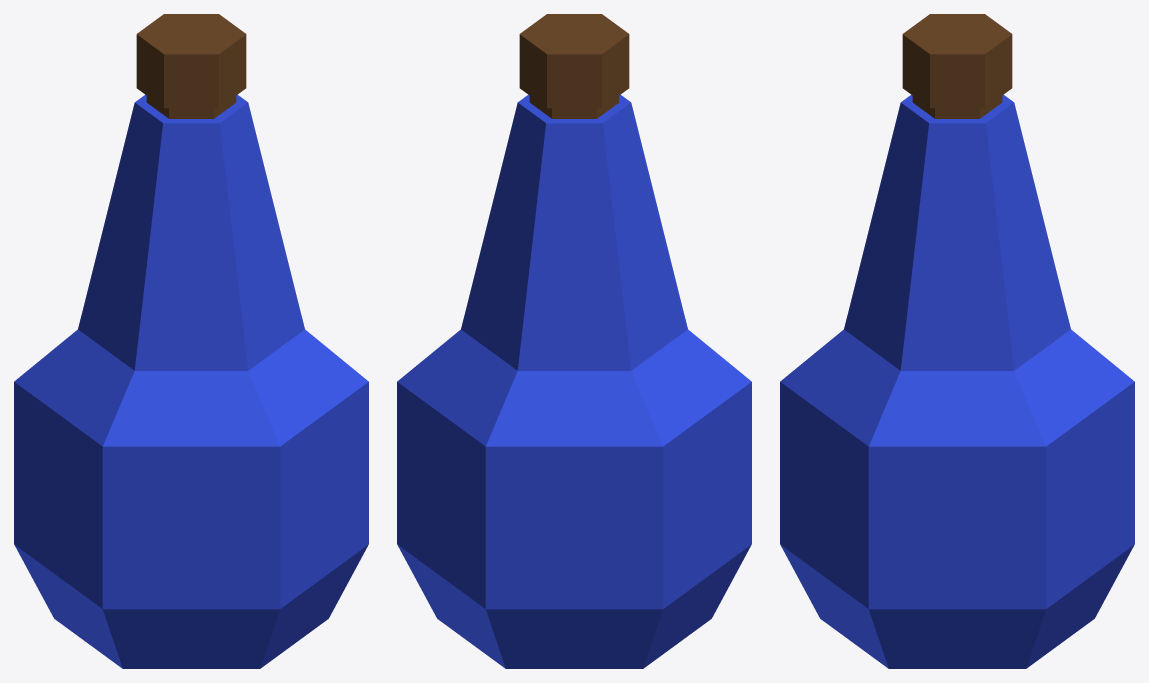
The model's file is Potion_2.fbx.
The picture shows the model from 3 angles, left to right: view 1: azimuth 30°, elevation 25°; view 2: azimuth 150°, elevation 25°; view 3: azimuth 270°, elevation 25°; orthographic projection.
Parts seen in each view (by area): view 1: Circle; view 2: Circle; view 3: Circle.
Part boxes in pixels (x1=…): Circle: x1=14, y1=14, x2=368, y2=668; Circle: x1=397, y1=14, x2=751, y2=668; Circle: x1=780, y1=14, x2=1134, y2=668.
Bounding box in the file's own units: 14.17 × 29.73 × 16.36.
